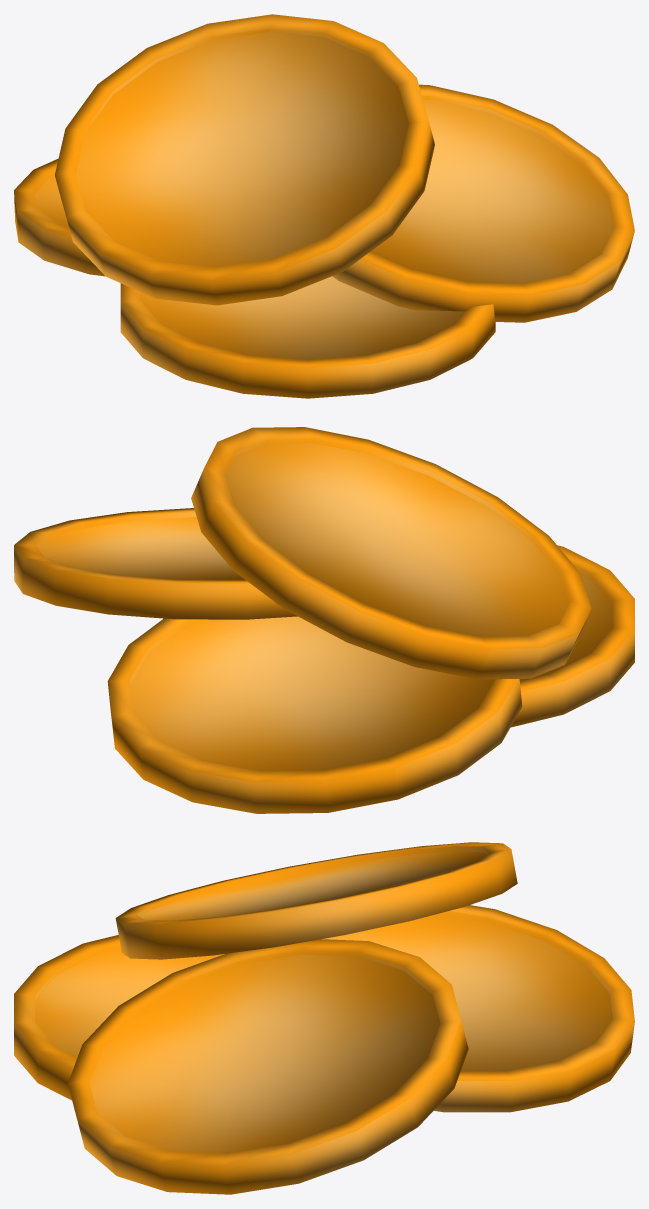
File: Monedas02.FBX
3 views of the same model, one above another, from view 1: azimuth 30°, elevation 25°; view 2: azimuth 150°, elevation 25°; view 3: azimuth 270°, elevation 25° (orthographic). The views are drawn at different scales.
Parts seen in each view (by area): view 1: moneda002; view 2: moneda002; view 3: moneda002.
Boxes of the visible parts, left/top/right/bottom form: moneda002: left=14, top=14, right=634, bottom=398; moneda002: left=14, top=427, right=634, bottom=813; moneda002: left=14, top=842, right=634, bottom=1194.
Bounding box in the file's own units: 15.6 × 6.08 × 15.82.
Materials: 1 (1 with a texture image).
